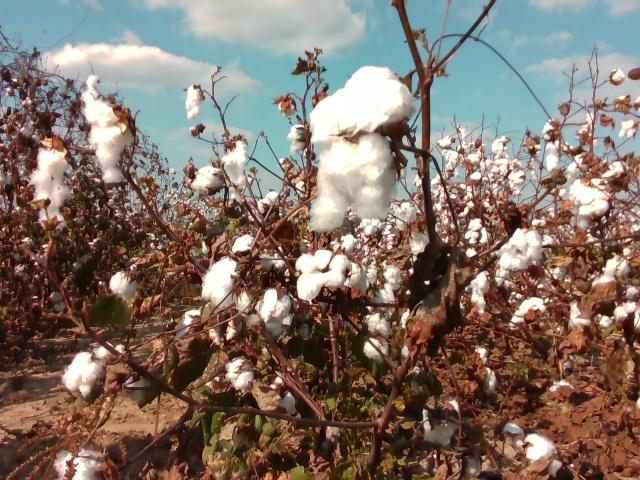cotton_ready: (309, 62, 417, 237), (81, 73, 134, 187), (200, 234, 258, 310), (30, 148, 74, 234), (460, 422, 525, 480), (295, 249, 351, 300), (504, 433, 562, 480), (569, 178, 611, 231), (62, 351, 106, 399), (498, 226, 543, 271), (422, 400, 464, 446), (53, 448, 104, 480), (591, 247, 633, 285), (402, 226, 439, 265), (569, 300, 613, 331), (246, 311, 285, 344), (511, 295, 547, 330), (206, 313, 244, 346), (223, 139, 248, 186), (175, 309, 202, 352), (342, 262, 379, 293), (190, 166, 228, 195), (373, 267, 402, 305), (260, 290, 294, 322), (225, 357, 256, 392), (475, 349, 498, 396), (269, 377, 298, 414), (249, 190, 280, 224), (469, 271, 491, 317), (109, 272, 138, 301), (122, 365, 155, 390), (613, 301, 640, 331), (363, 312, 393, 337), (96, 342, 126, 362), (363, 338, 390, 360), (287, 125, 306, 155), (186, 86, 203, 119)
